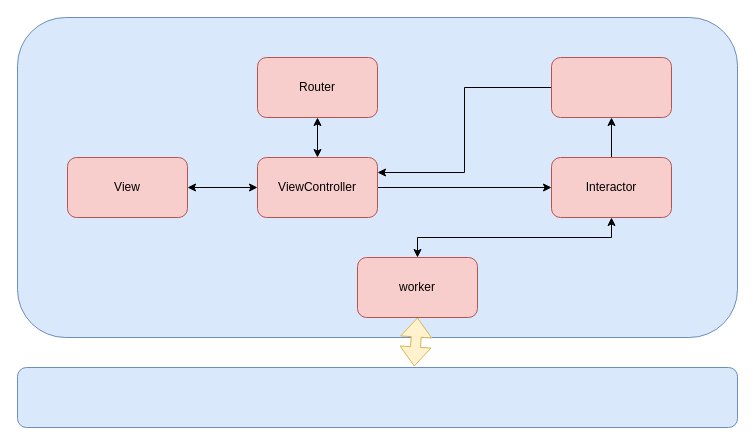
The diagram is 755 pixels wide and 445 high, and some of its shapes have lost their labels. Each missing label, with the box of its shape:
Presenter: (550, 56, 672, 118)
WeatherApi: (16, 366, 738, 428)
